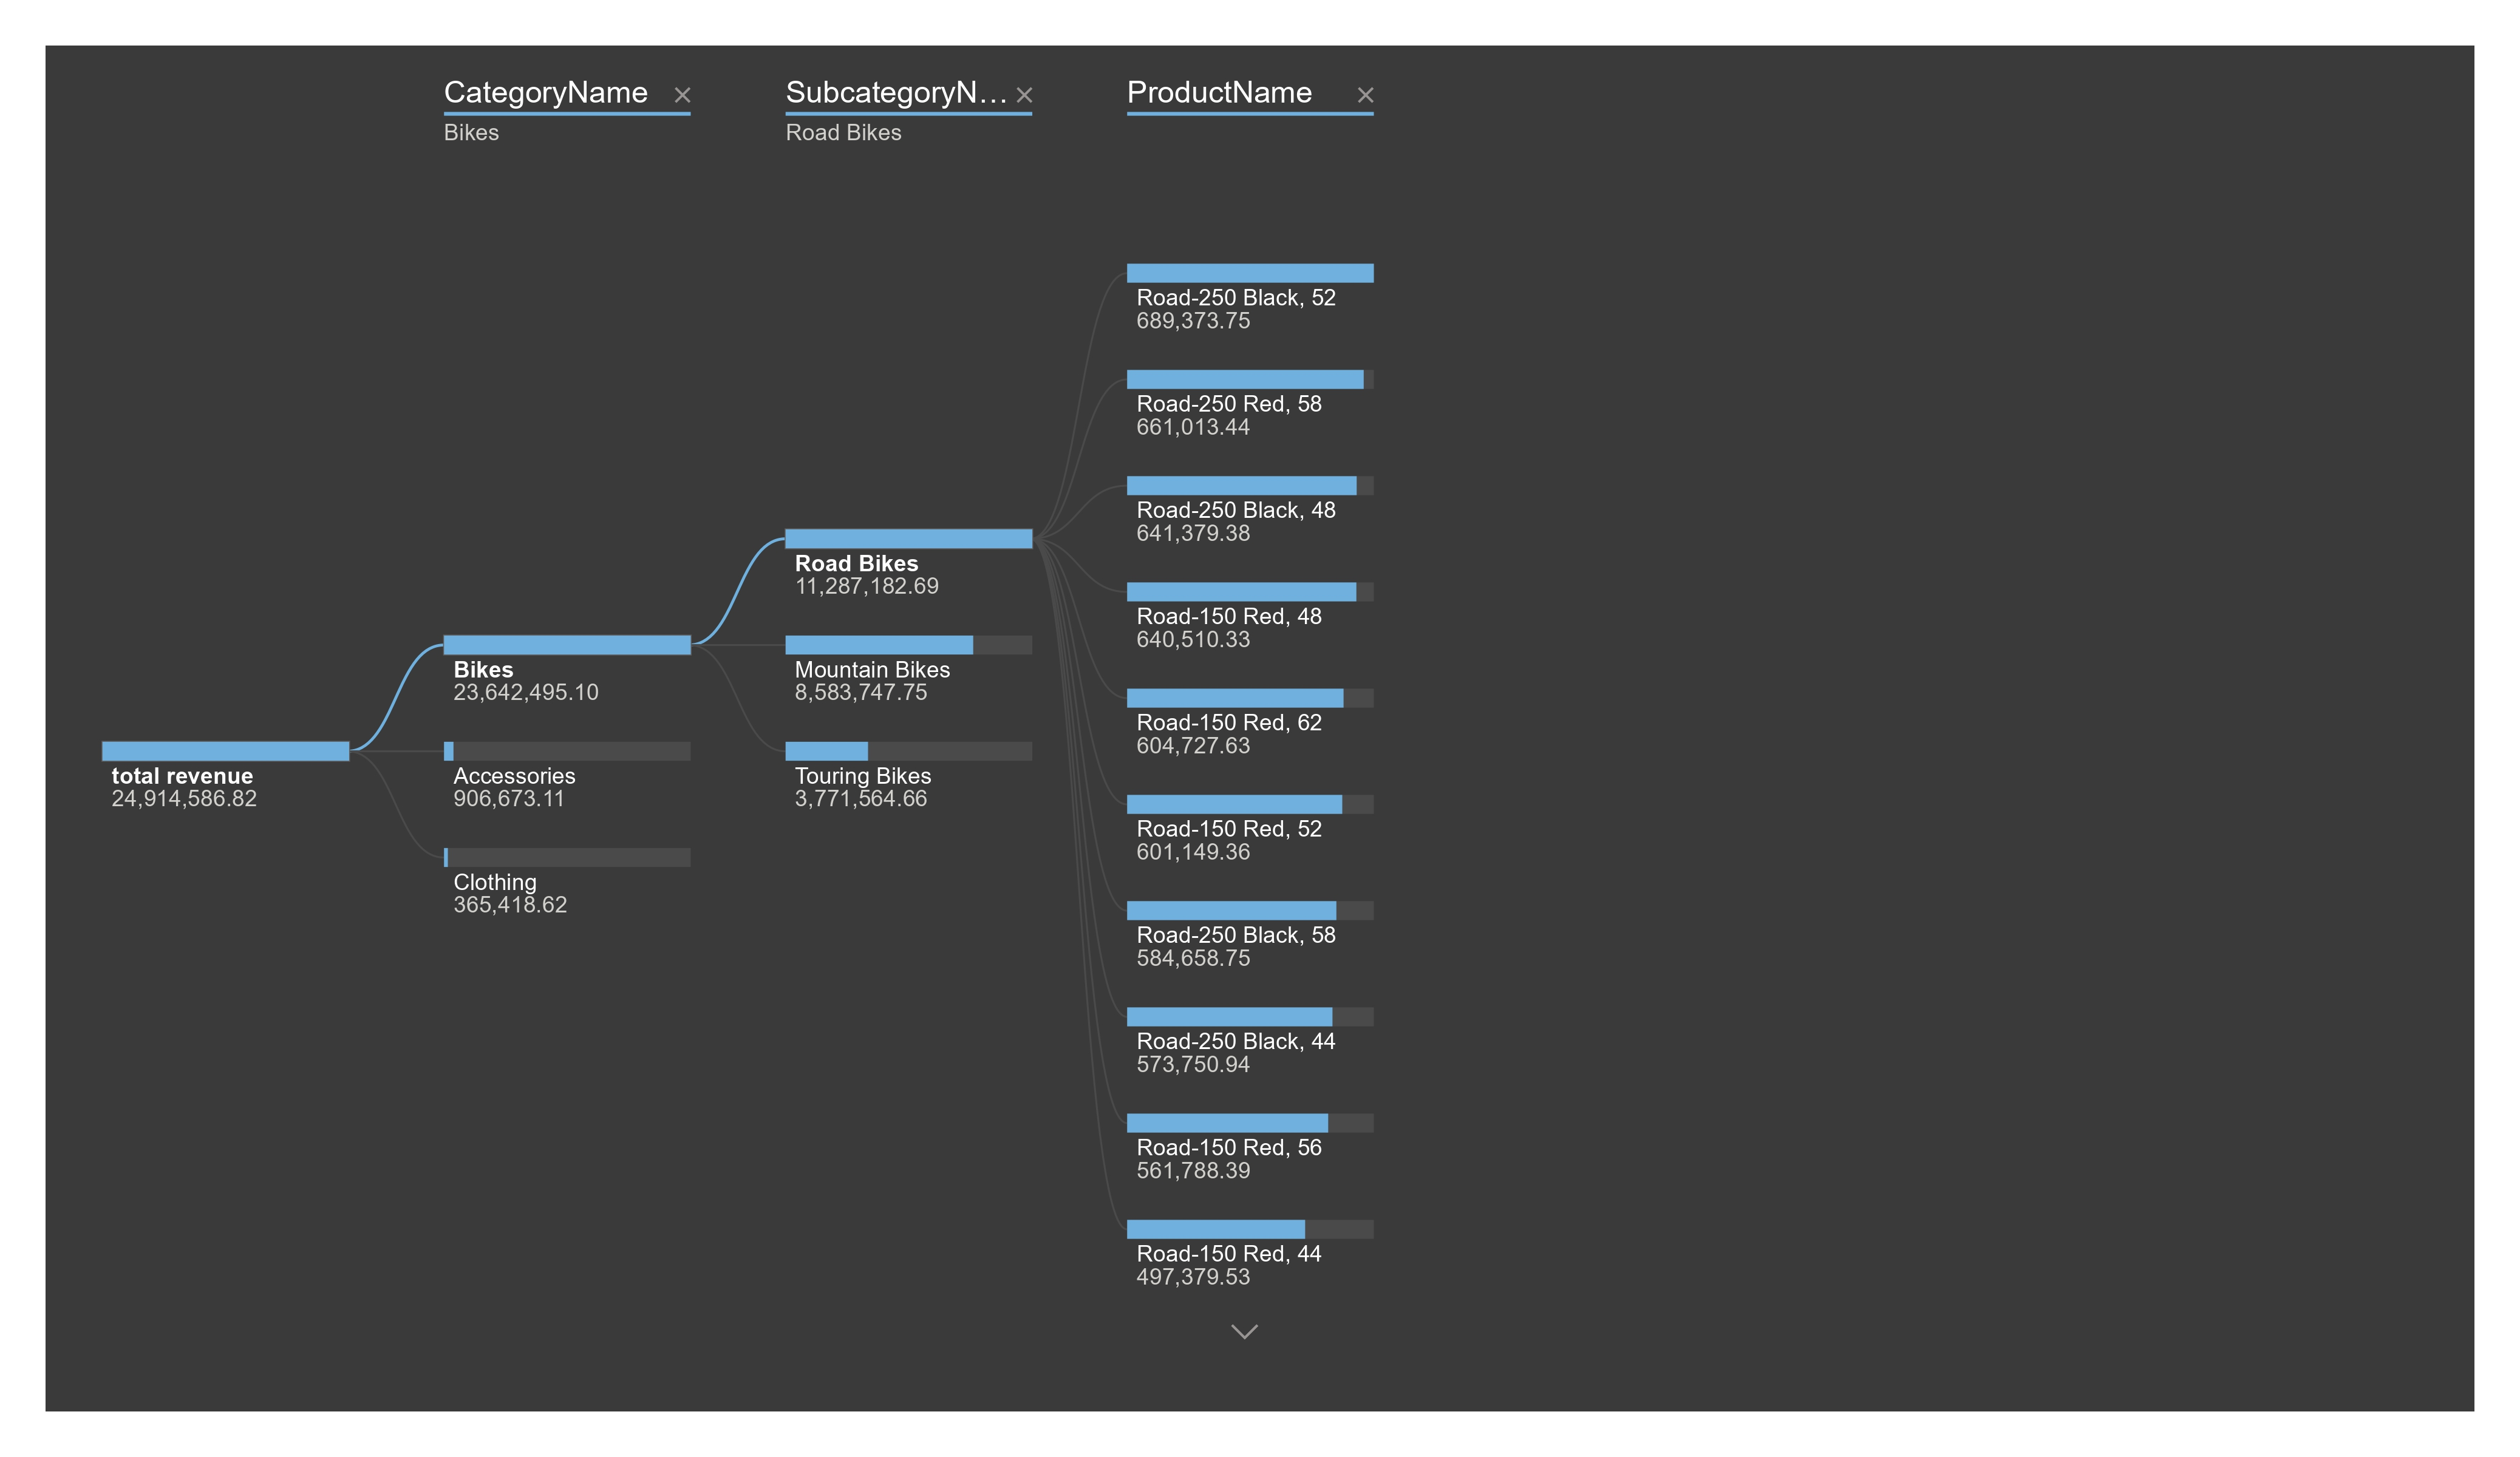

The page's visual inventory and layout, read from the dashboard file:
{"tool":"powerbi","page":{"name":"Page 1","canvas":[1280,720],"ordinal":3},"visuals":[{"type":"decompositionTreeVisual","fields":{"Analyze":["AW_Sales_lookup.total revenue"],"ExplainBy":["AW_Categories_lookup.CategoryName","AW_Subcategories_lookup.SubcategoryName","AW_Products_lookup.ProductName"]},"box":[0,0,1280,720],"z":0}]}

Visuals, with their boxes on the page's 1280x720 design canvas (x1, y1, x2, y2). These are canvas units, not pixel positions in the 2520x1457 screenshot, which may show the page scaled, cropped or inside an application window:
decompositionTreeVisual - AW_Sales_lookup.total revenue x AW_Categories_lookup.CategoryName: l=0, t=0, r=1280, b=720
